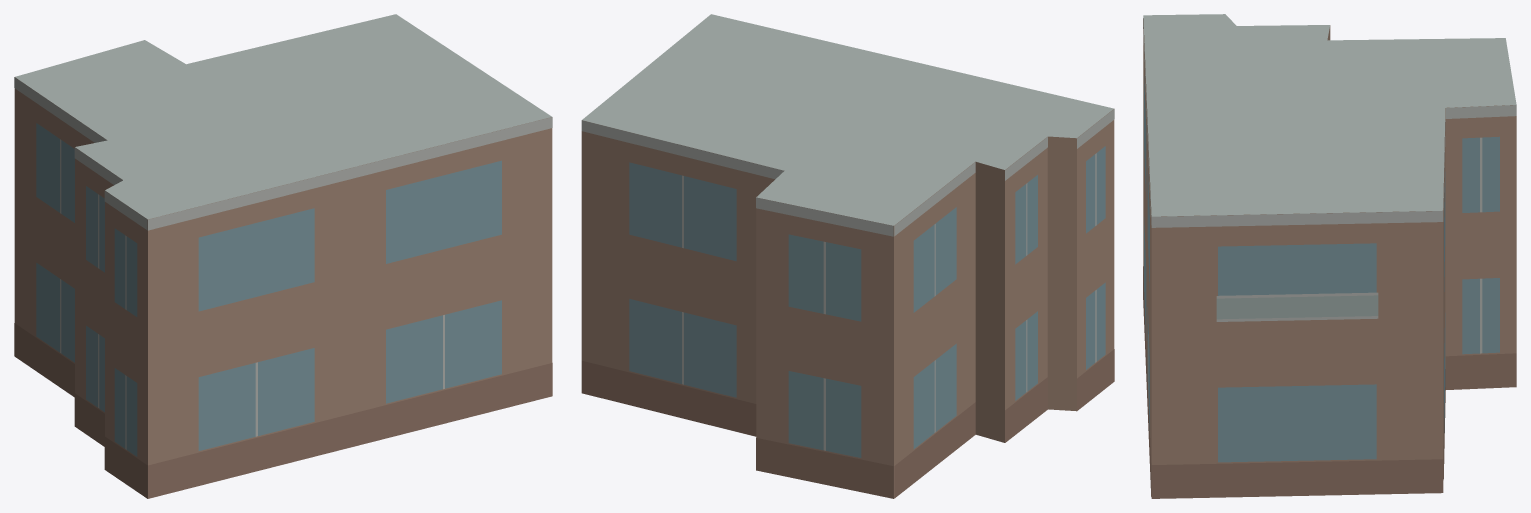
The model's file is survey-upis-32644869.glb.
3 views of the same model, side by side, from view 1: azimuth 30°, elevation 25°; view 2: azimuth 150°, elevation 25°; view 3: azimuth 270°, elevation 25° (orthographic). The views are drawn at different scales.
Visible parts, largest first — view 1: survey-upis-32644869.tmp; view 2: survey-upis-32644869.tmp; view 3: survey-upis-32644869.tmp.
Part boxes in pixels (<box>): survey-upis-32644869.tmp: <box>14,14,552,498</box>; survey-upis-32644869.tmp: <box>581,14,1114,498</box>; survey-upis-32644869.tmp: <box>1143,14,1516,498</box>.
Bounding box in the file's own units: 9.4 × 6.1 × 7.33.
